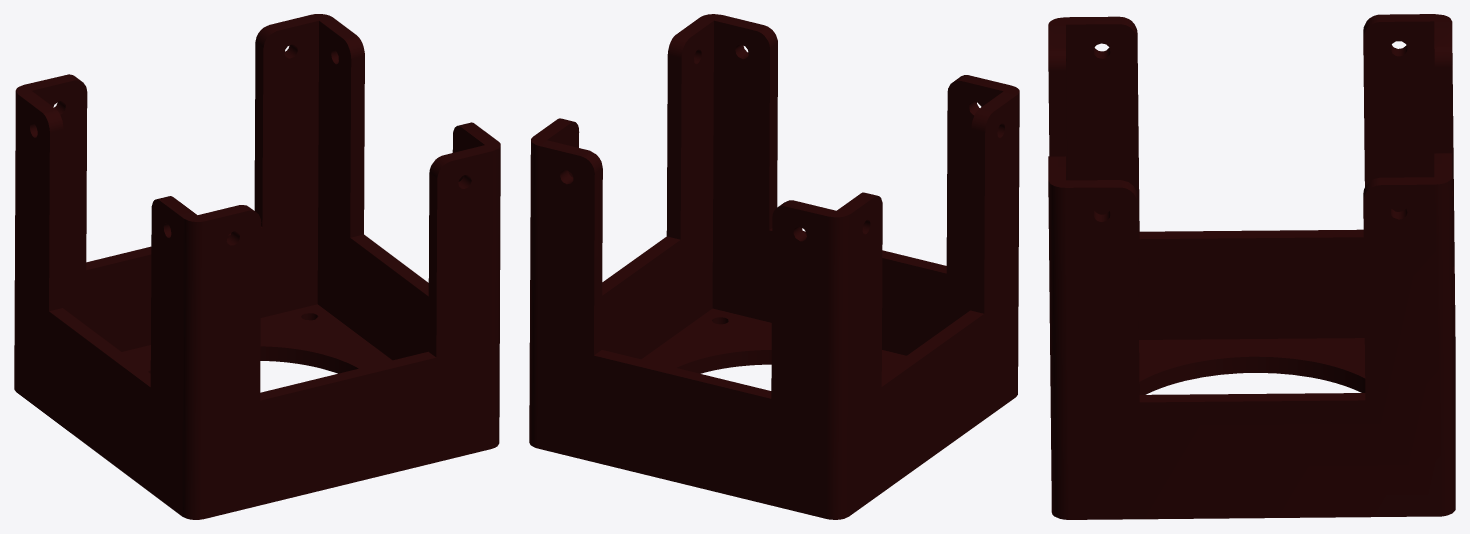
Rendered from 线阵夹具.glb.
3 views of the same model, side by side, from view 1: azimuth 30°, elevation 25°; view 2: azimuth 150°, elevation 25°; view 3: azimuth 270°, elevation 25° (orthographic). The views are drawn at different scales.
Visible parts, largest first — view 1: 线阵夹具; view 2: 线阵夹具; view 3: 线阵夹具.
Boxes of the visible parts, x1,y1,x2,y2 form: 线阵夹具: (14,14,500,519); 线阵夹具: (529,14,1019,519); 线阵夹具: (1048,14,1455,519).
Size of the model in its own units: 0.0681 by 0.0624 by 0.0686.
